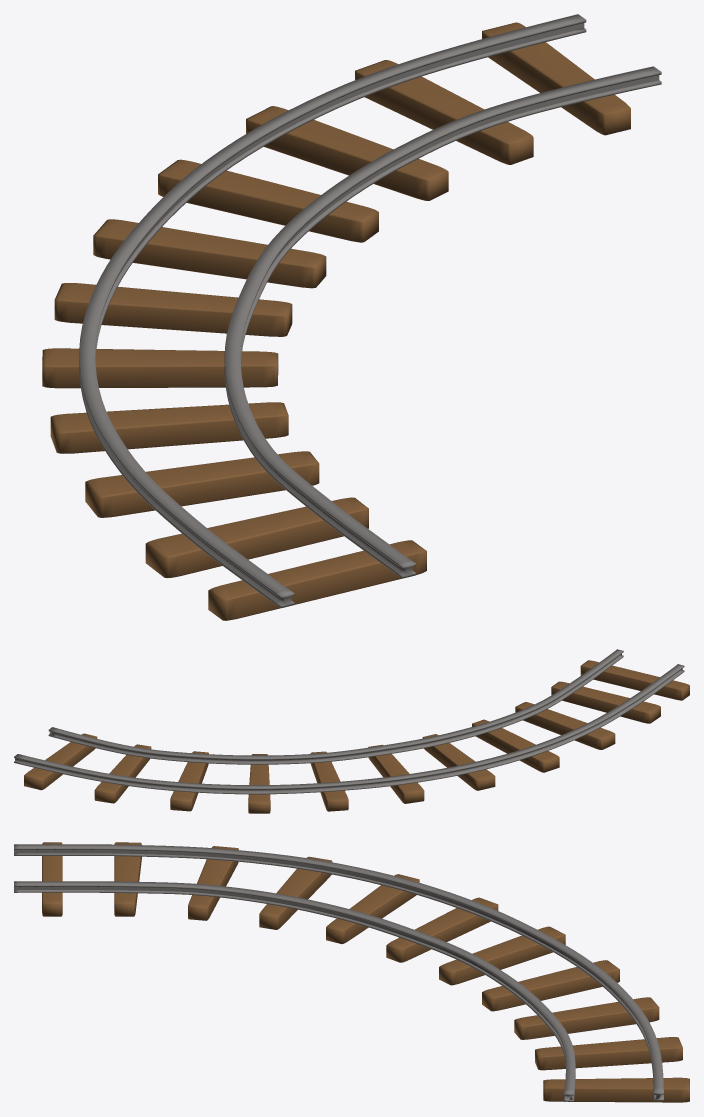
File: 90degreeTrack.FBX
3 renders of one model, top to bottom at view 1: azimuth 30°, elevation 25°; view 2: azimuth 150°, elevation 25°; view 3: azimuth 270°, elevation 25°, orthographic. The views are drawn at different scales.
Visible parts, largest first — view 1: railroadturnsection02; view 2: railroadturnsection02; view 3: railroadturnsection02.
Part boxes in pixels (bbox=[...]): railroadturnsection02: bbox=[42, 14, 661, 620]; railroadturnsection02: bbox=[14, 649, 689, 813]; railroadturnsection02: bbox=[14, 842, 689, 1102].
Size of the model in its own units: 9.11 by 0.3552 by 10.
